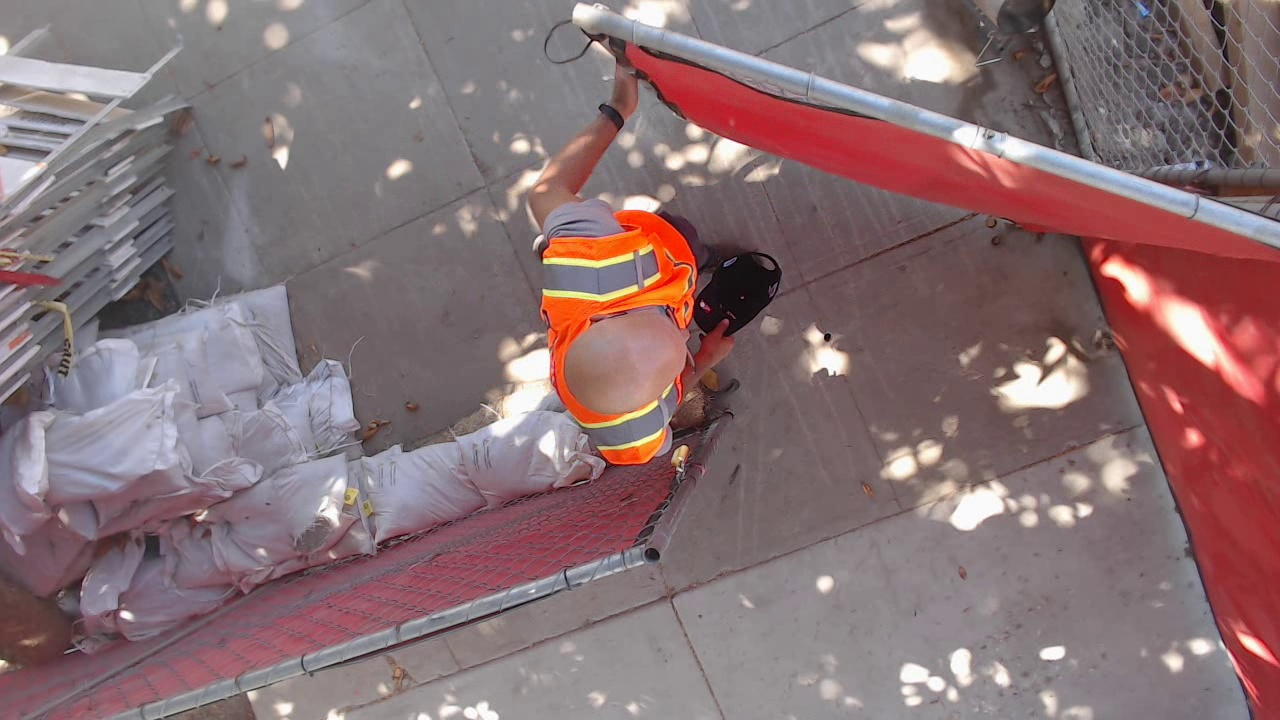person: (294, 1, 630, 266)
safetyvest: (295, 1, 569, 185)
